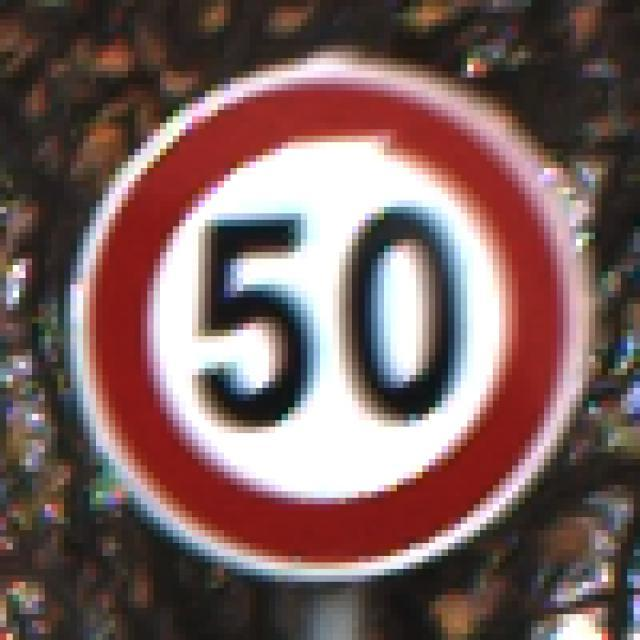speed limit 50: (61, 46, 593, 585)
